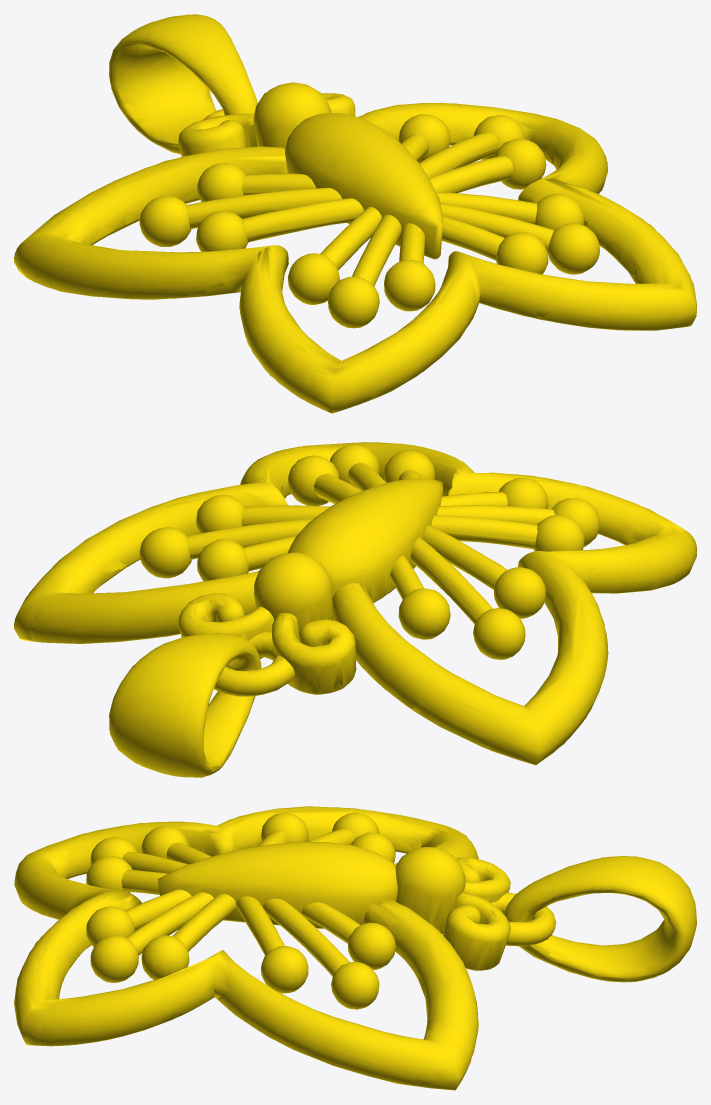
The picture shows the model from 3 angles, top to bottom: view 1: azimuth 30°, elevation 25°; view 2: azimuth 150°, elevation 25°; view 3: azimuth 270°, elevation 25°; orthographic projection. The views are drawn at different scales.
Parts seen in each view (by area): view 1: highPolyMesh, lowPolyMesh; view 2: highPolyMesh, lowPolyMesh; view 3: highPolyMesh, lowPolyMesh.
Part boxes in pixels (box(x1,y1,x2,y2)): highPolyMesh: box(14, 14, 696, 413); lowPolyMesh: box(14, 14, 696, 413); highPolyMesh: box(14, 442, 696, 777); lowPolyMesh: box(14, 442, 696, 777); highPolyMesh: box(14, 807, 696, 1090); lowPolyMesh: box(14, 806, 696, 1089).
Size of the model in its own units: 0.022 by 0.00546 by 0.0262.
